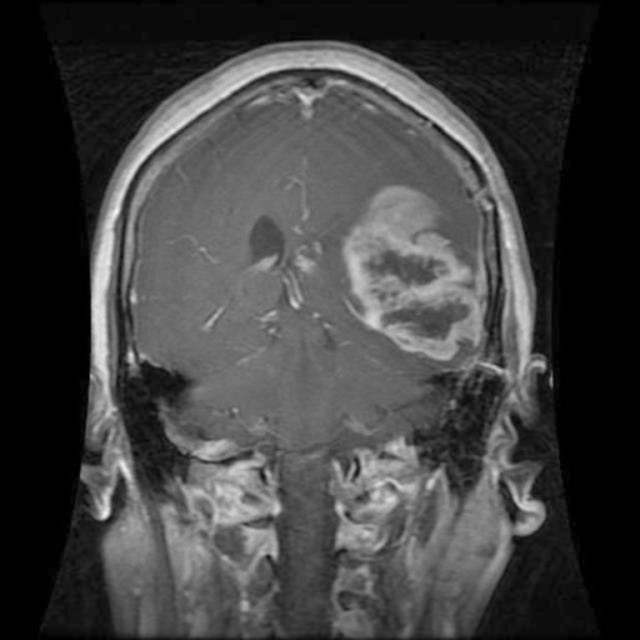pituitary tumor: (344, 186, 488, 359)
